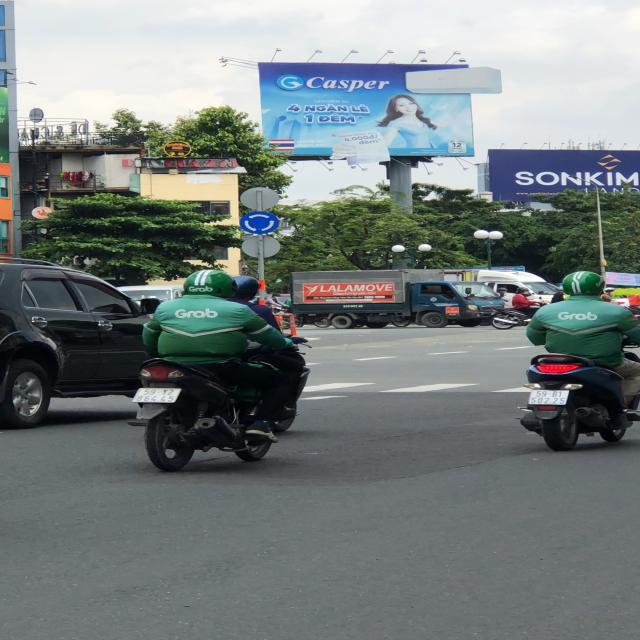Bien bao noi giao nhau chay theo vong xuyen: (239, 210, 282, 236)
